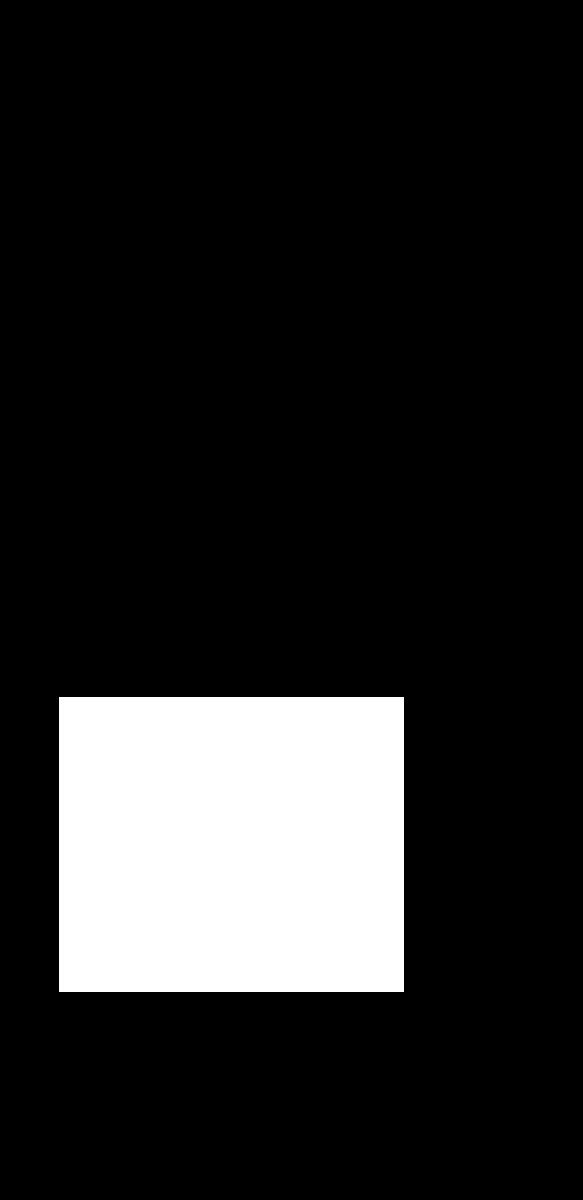table: (59, 697, 404, 992)
